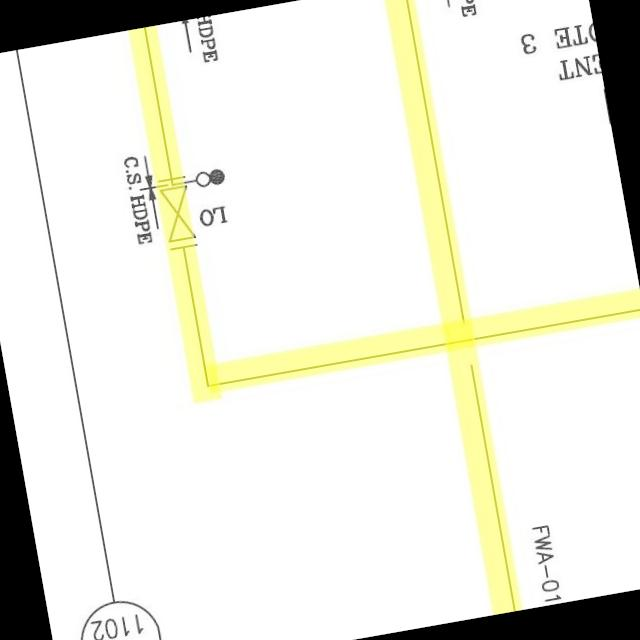GV: (154, 174, 202, 256)
